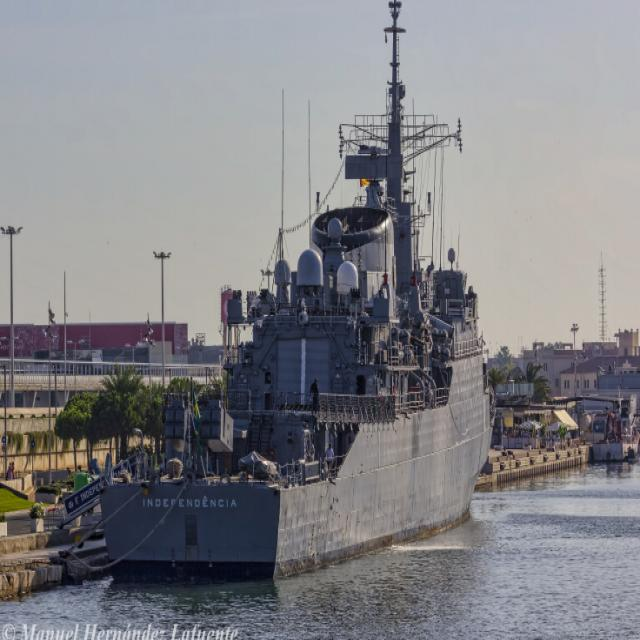Fragata: (89, 1, 504, 595)
